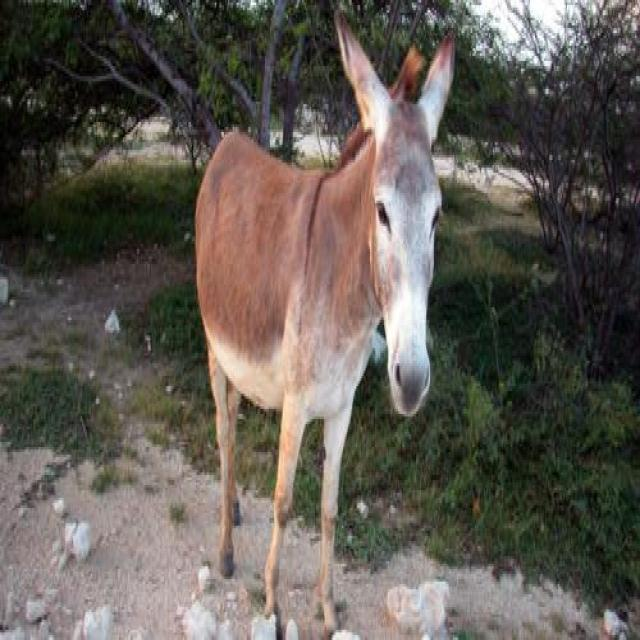Donkey: (195, 8, 454, 640)
